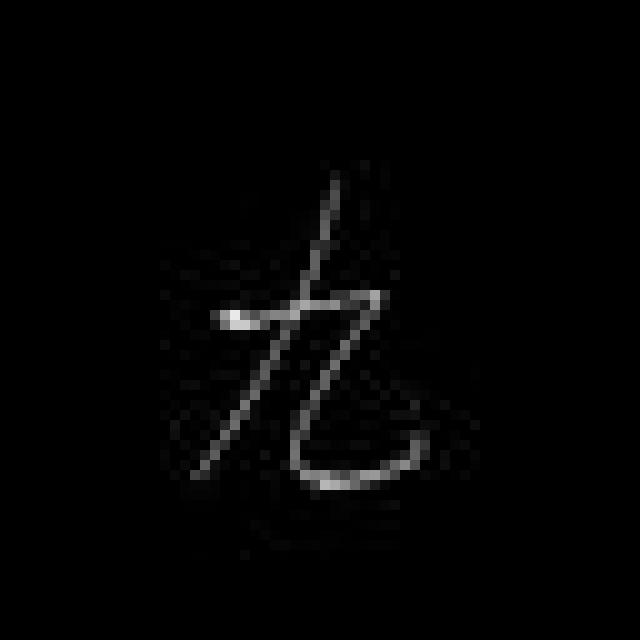9 -nine-: (182, 172, 430, 496)
